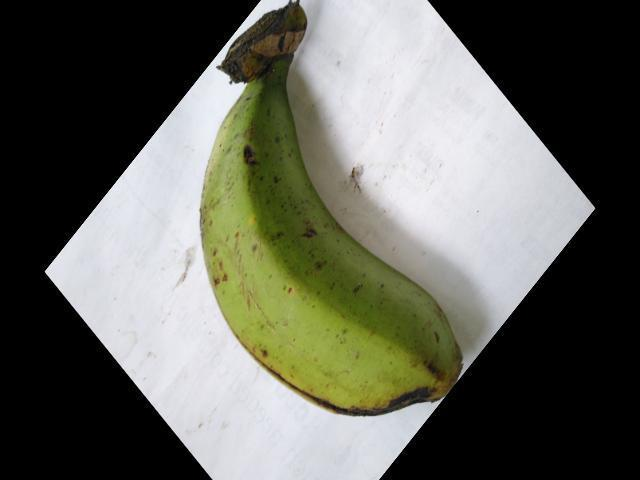unripe: (177, 87, 486, 424)
